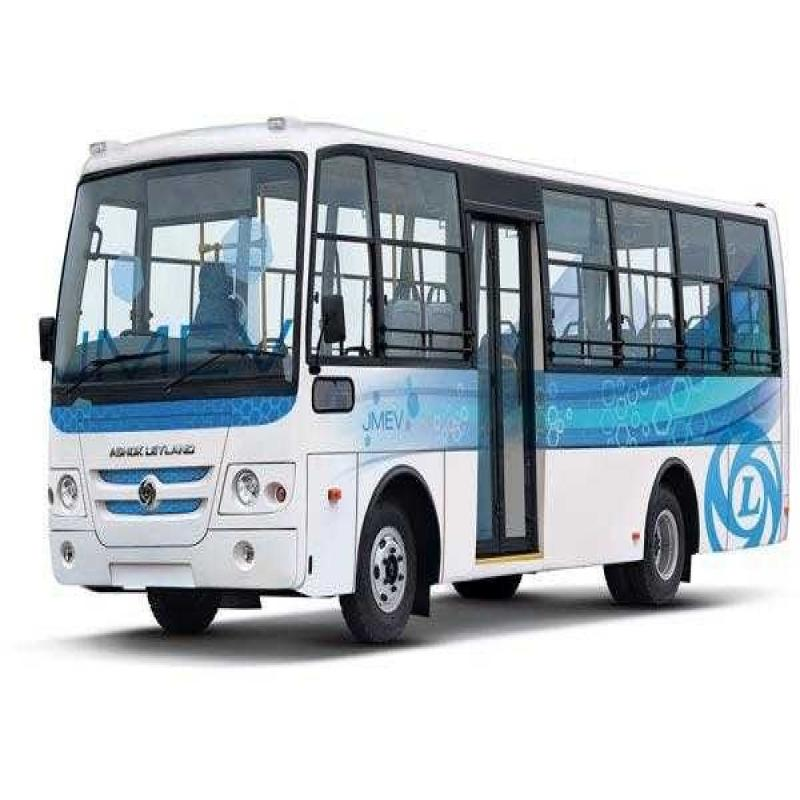bus: (26, 79, 795, 642)
